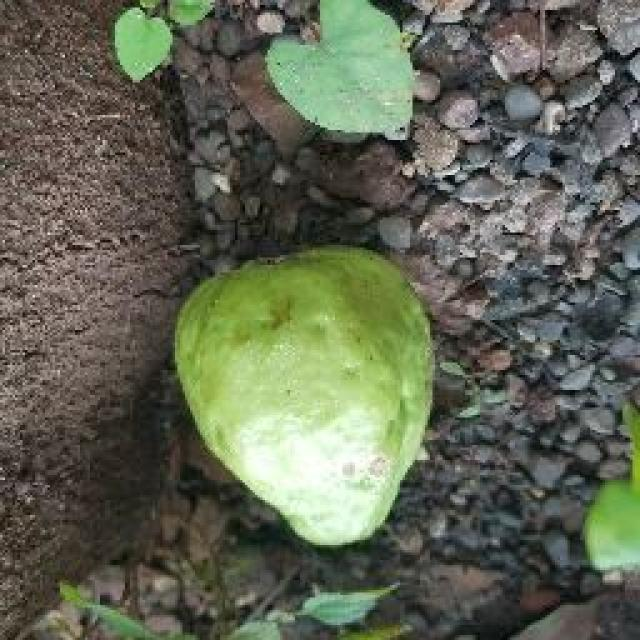Good_Guava: (172, 248, 435, 550)
